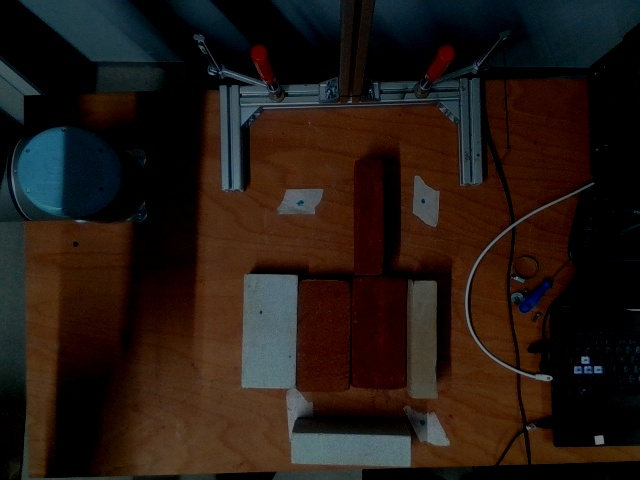brick: (243, 274, 298, 391), (354, 278, 406, 386), (298, 282, 349, 390)
brick-side: (293, 434, 411, 465), (414, 281, 438, 398), (357, 164, 382, 275)
